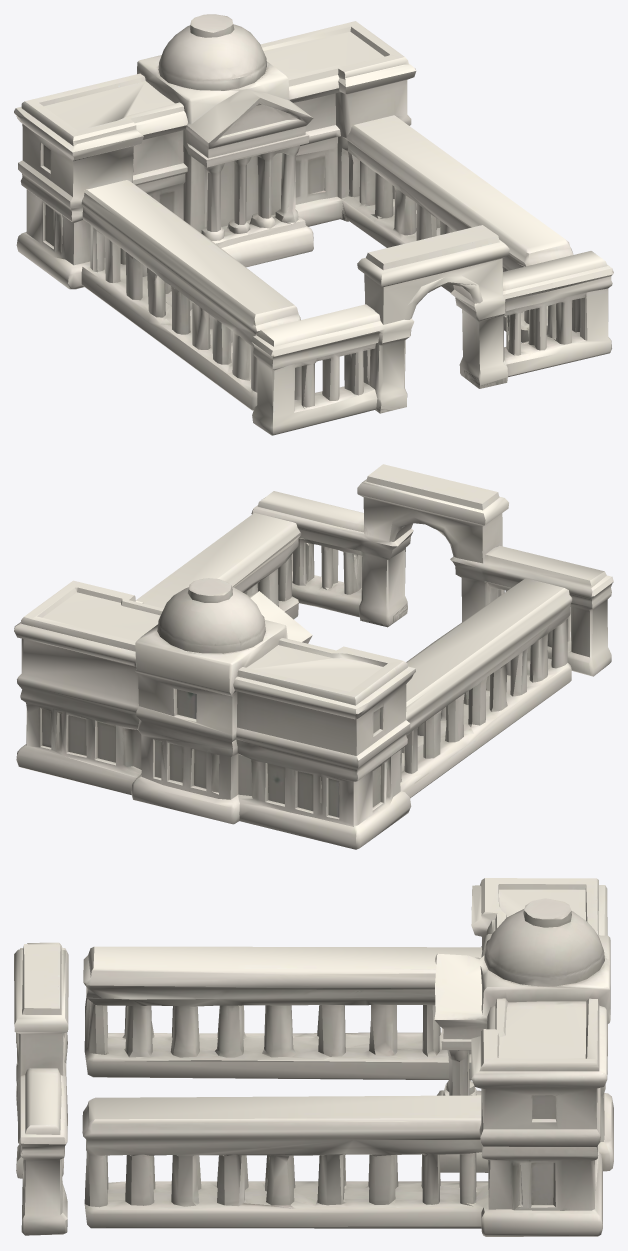
The model's file is legion-of-honor.glb.
3 renders of one model, top to bottom at view 1: azimuth 30°, elevation 25°; view 2: azimuth 150°, elevation 25°; view 3: azimuth 270°, elevation 25°, orthographic. The views are drawn at different scales.
Parts seen in each view (by area): view 1: legion-of-honor; view 2: legion-of-honor; view 3: legion-of-honor.
Boxes of the visible parts, x1,y1,x2,y2 form: legion-of-honor: [14, 14, 613, 435]; legion-of-honor: [14, 464, 613, 849]; legion-of-honor: [14, 878, 613, 1236].
Bounding box in the file's own units: 8.8 × 5 × 11.6.
1 material, 1 textured.
